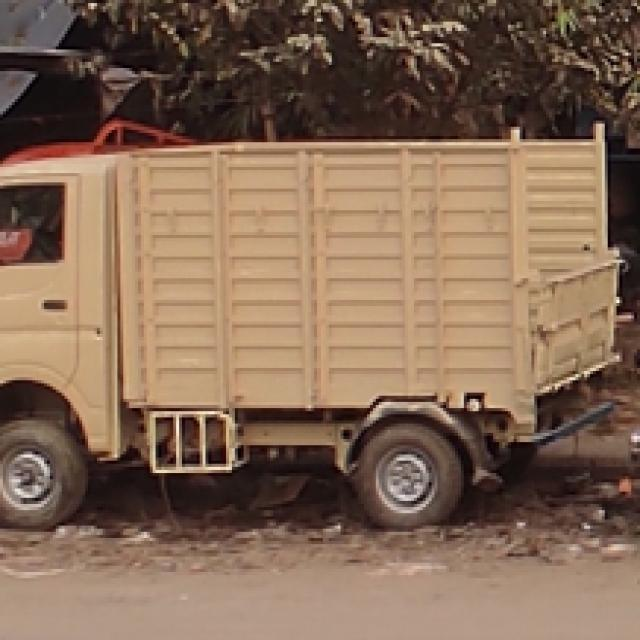minitruck: (3, 111, 631, 544)
